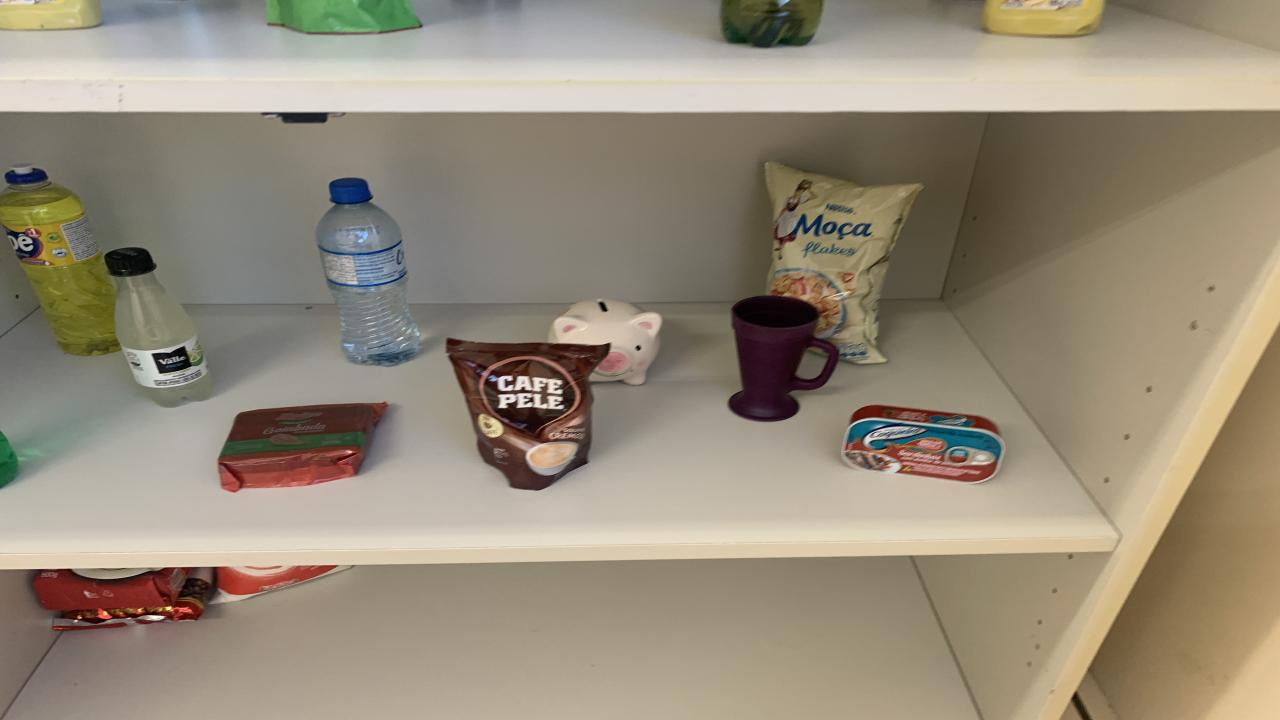Coffee-Pantry_Items: (445, 338, 610, 489)
Detergent-Cleanup_Items: (0, 165, 120, 356), (0, 431, 18, 488)
Flakes-Snacks: (765, 163, 922, 364)
Guarana-Drinks: (720, 0, 822, 47)
Guava-Snacks: (218, 403, 388, 491)
Mustard-Pantry_Items: (982, 0, 1105, 36)
Pig_Safe-Miscellaneous: (548, 300, 662, 384)
Soda-Drinks: (105, 249, 210, 407)
Tomato_Sauce-Pantry_Items: (265, 0, 422, 34)
Tuna_Can-Pantry_Items: (842, 405, 1005, 484)
Water_Bottle-Drinks: (315, 178, 420, 366)
